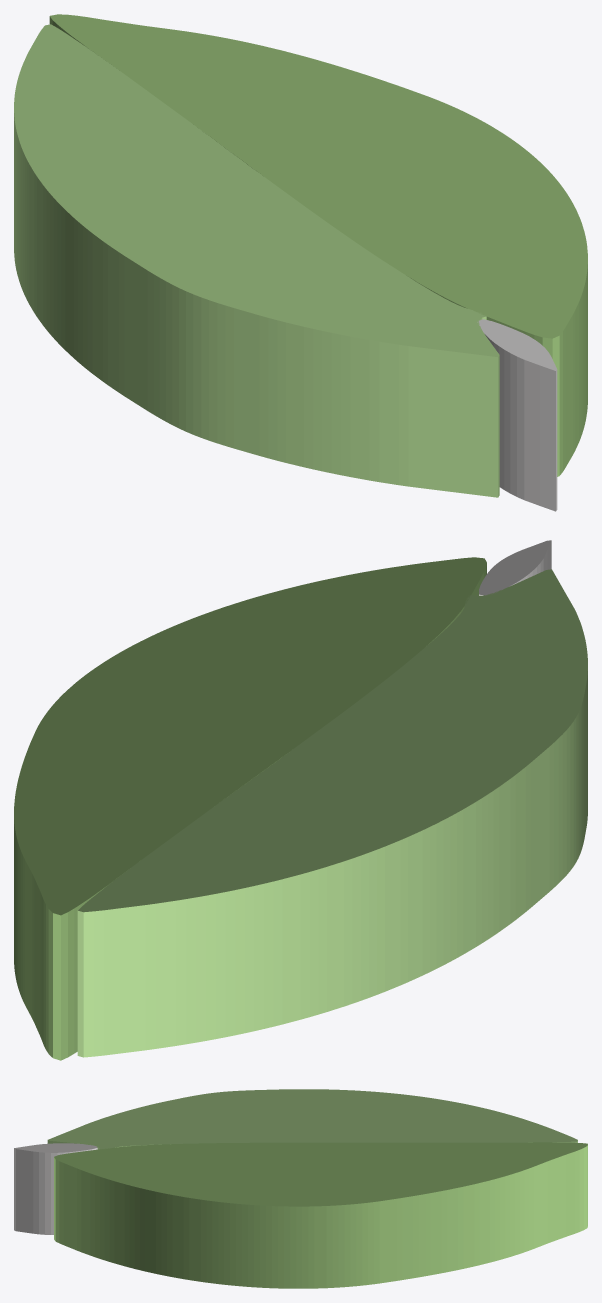
Rendered from mongodb1.glb.
The picture shows the model from 3 angles, top to bottom: view 1: azimuth 30°, elevation 25°; view 2: azimuth 150°, elevation 25°; view 3: azimuth 270°, elevation 25°; orthographic projection. The views are drawn at different scales.
Parts seen in each view (by area): view 1: Node2, Node1, Node3; view 2: Node2, Node1, Node3; view 3: Node1, Node2, Node3.
Boxes of the visible parts, left/top/right/bottom form: Node2: left=14, top=24, right=499, bottom=497; Node1: left=49, top=14, right=587, bottom=476; Node3: left=477, top=319, right=557, bottom=511; Node2: left=77, top=569, right=587, bottom=1057; Node1: left=14, top=557, right=486, bottom=1060; Node3: left=479, top=540, right=551, bottom=595; Node1: left=54, top=1142, right=587, bottom=1288; Node2: left=47, top=1089, right=577, bottom=1149; Node3: left=14, top=1143, right=97, bottom=1234.
Size of the model in its own units: 1.21 by 0.3937 by 2.49.
